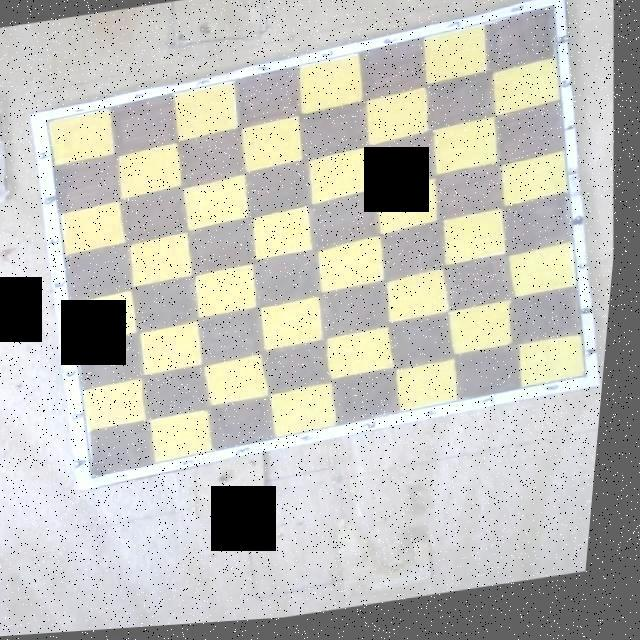chess-table-corners: (98, 474, 105, 481), (48, 118, 53, 122), (591, 382, 596, 385), (552, 11, 556, 14)
